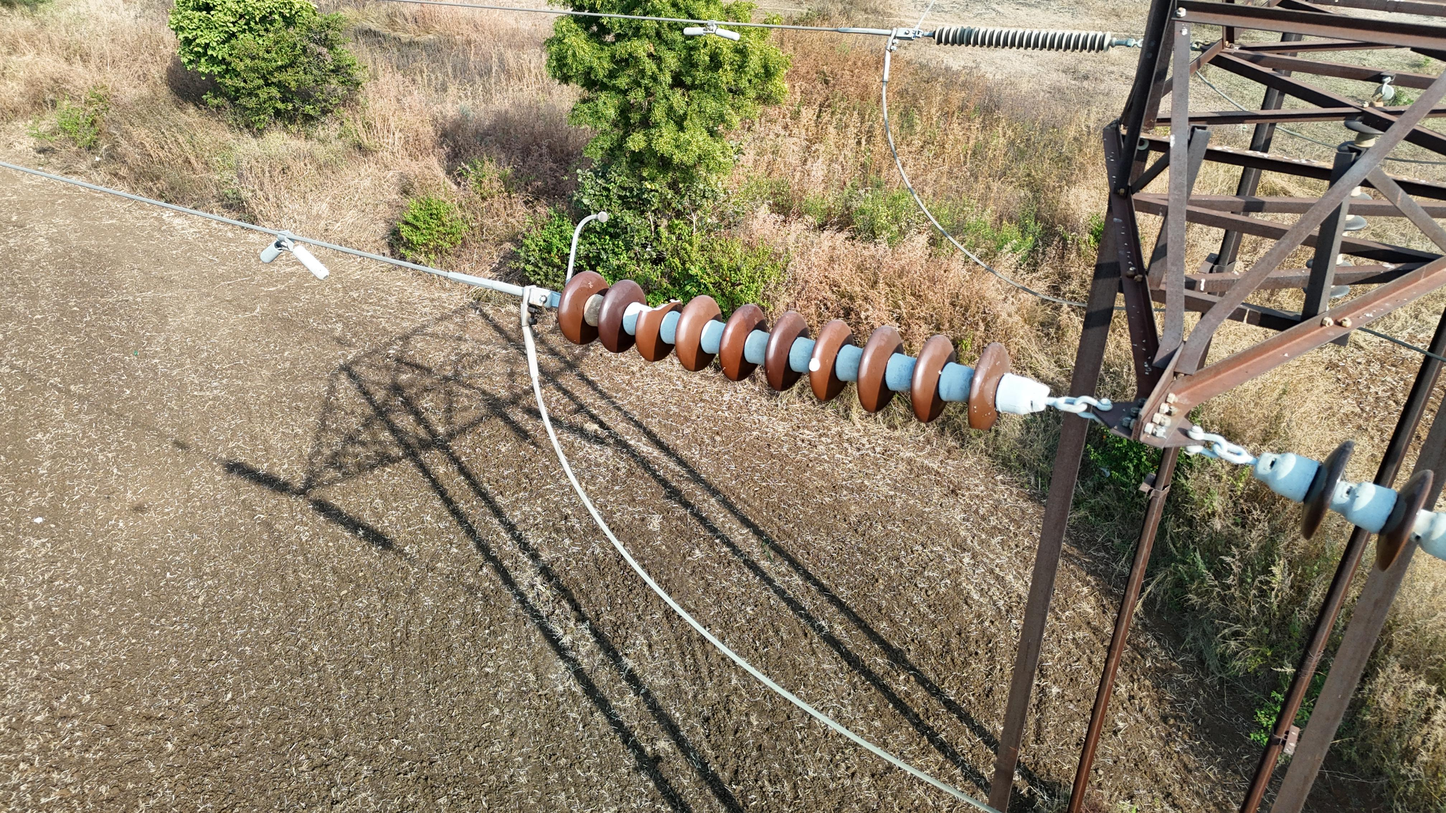broken_insulator: (633, 282, 682, 362), (808, 318, 853, 401)
